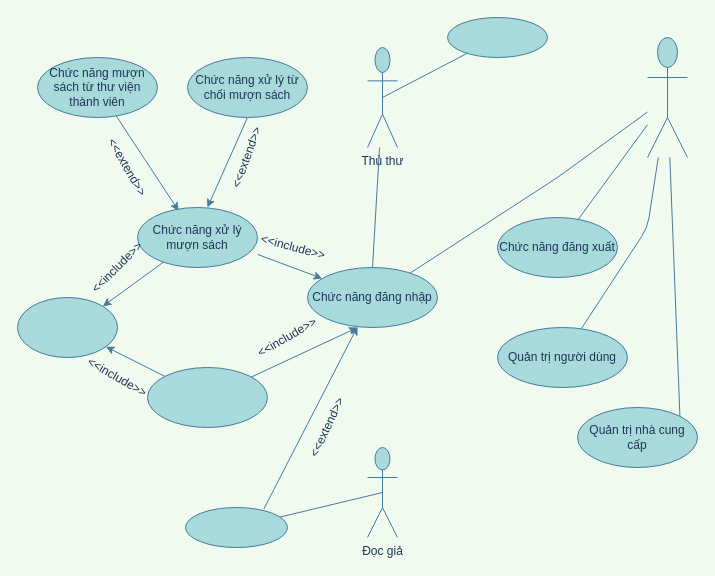
The diagram is 715 pixels wide and 576 high, and some of its shapes have lost their labels. The centre of each missing label's shape, as x and y in pixels:
"Chức năng tra cứu sách" belongs at point 236,527.
"Chức năng xử lý trả sách" belongs at point 207,397.
"Kiểm tra thẻ" belongs at point 67,327.
"Mua sách" belongs at point 497,37.
"Quan trị" belongs at point 667,97.
